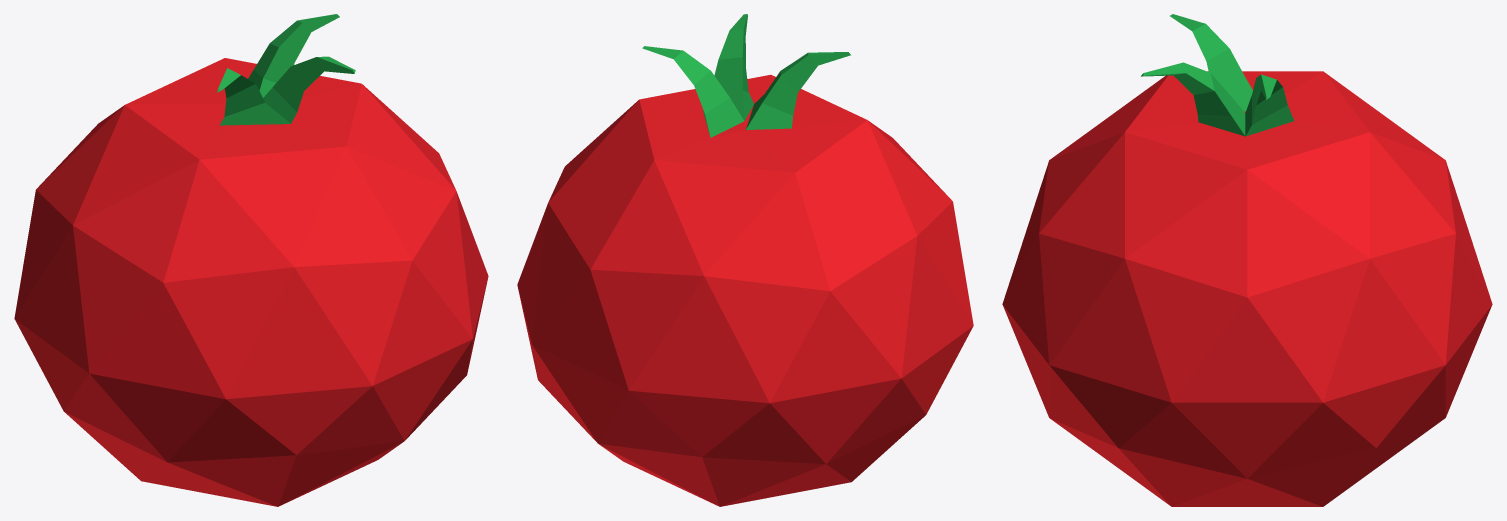
Rendered from Tomato.glb.
The picture shows the model from 3 angles, left to right: view 1: azimuth 30°, elevation 25°; view 2: azimuth 150°, elevation 25°; view 3: azimuth 270°, elevation 25°; orthographic projection. The views are drawn at different scales.
Parts seen in each view (by area): view 1: Icosphere; view 2: Icosphere; view 3: Icosphere.
Part boxes in pixels (x1,y1,x2,y2): Icosphere: [14, 14, 488, 506]; Icosphere: [517, 14, 973, 506]; Icosphere: [1002, 14, 1492, 506].
Bounding box in the file's own units: 1.9 × 2.03 × 2.
Materials: 1 (1 with a texture image).
